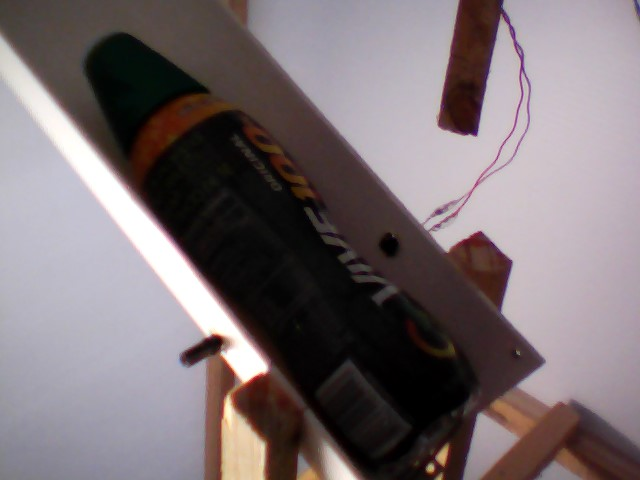plastico: (77, 18, 498, 480)
